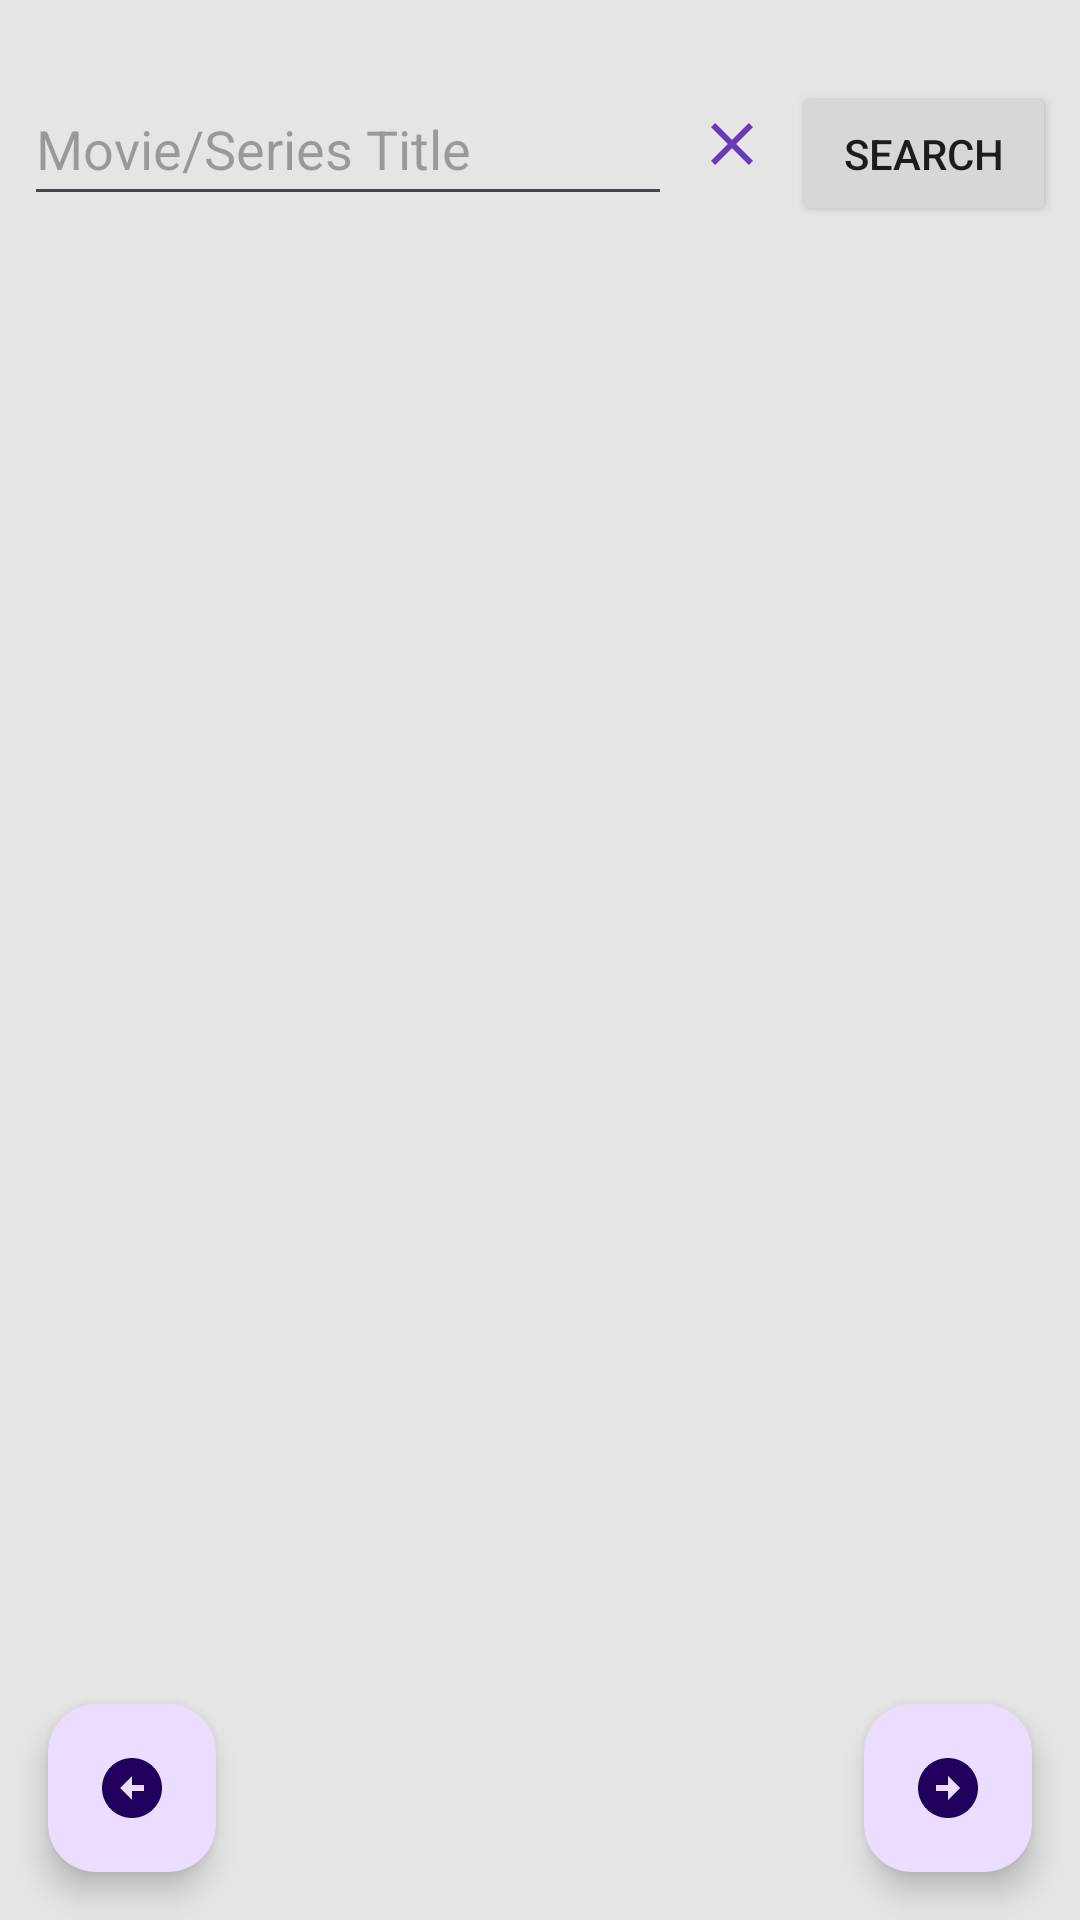

Locate icon controls on the screen. Image size 1080 x 1920, boxes as (x1, y1, x2, y2).
Clear: (711, 123, 753, 165)
Page Left: (48, 1704, 216, 1872)
Page Right: (864, 1704, 1032, 1872)
